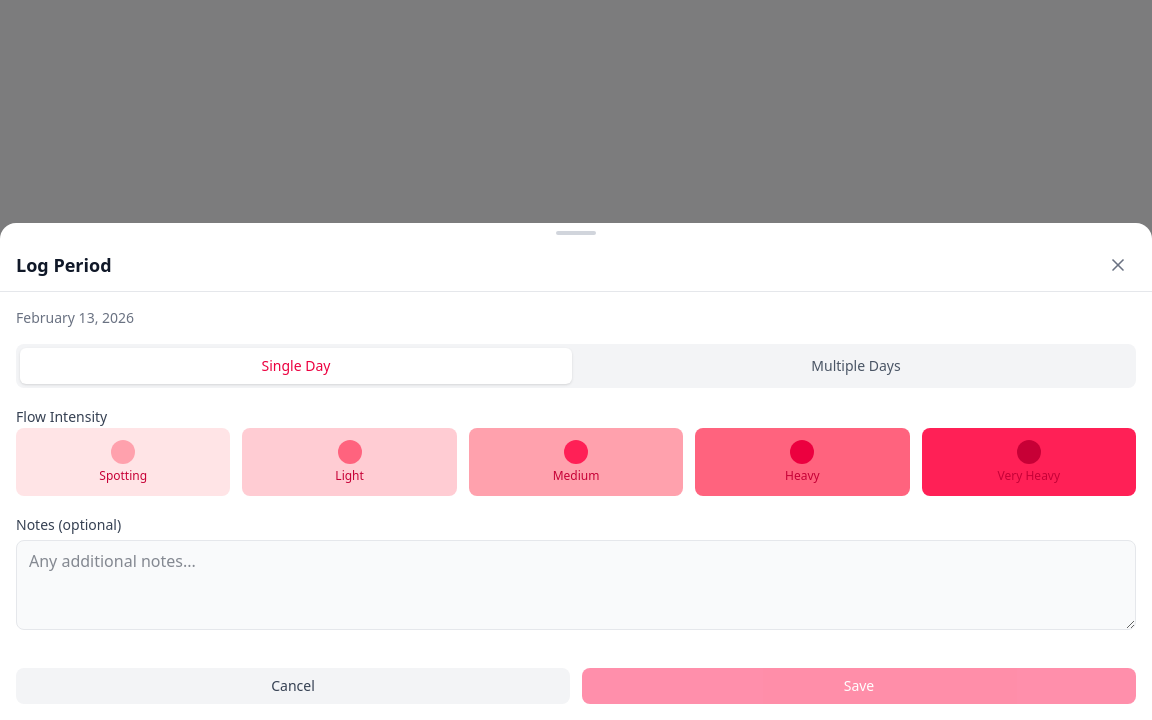
PeriodLogForm › save button state › should enable Save button when flow intensity is selected
The image size is (1152, 720).
# Click on a flow intensity
What coordinates should you click on to do the following:
click the button "Medium"
I would click on:
 (576, 462)
Its box is [469, 428, 683, 496].
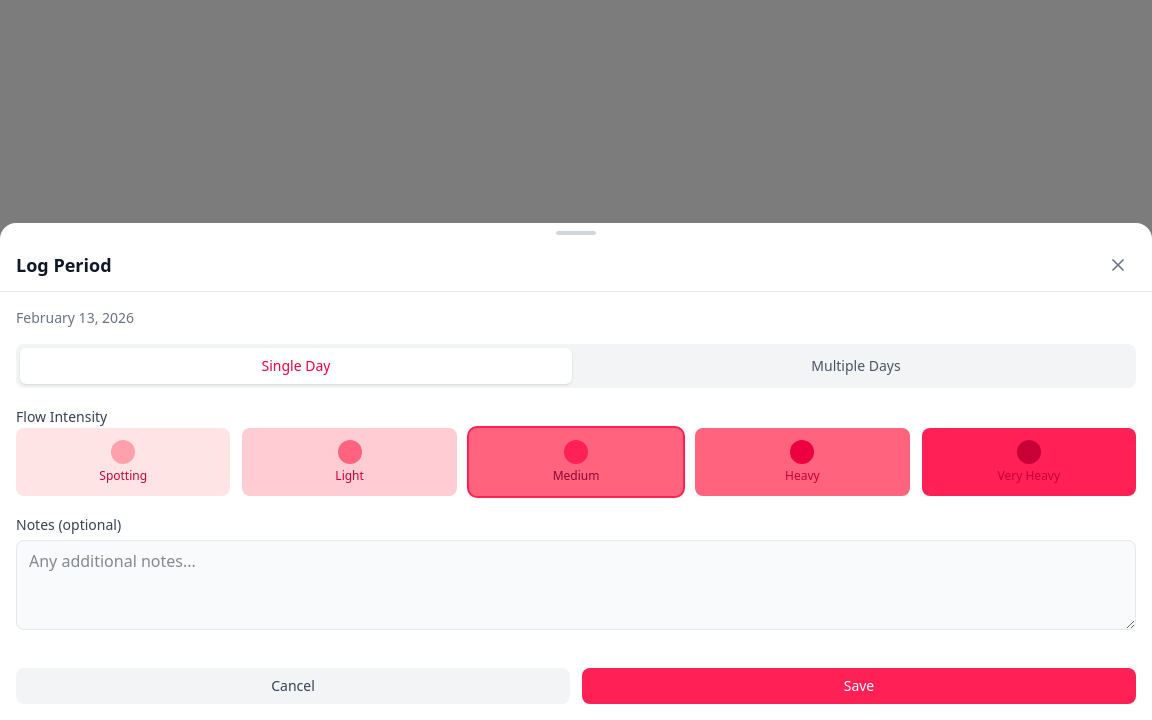
Expected: the button "Save" is enabled, [582, 668, 1136, 704]
